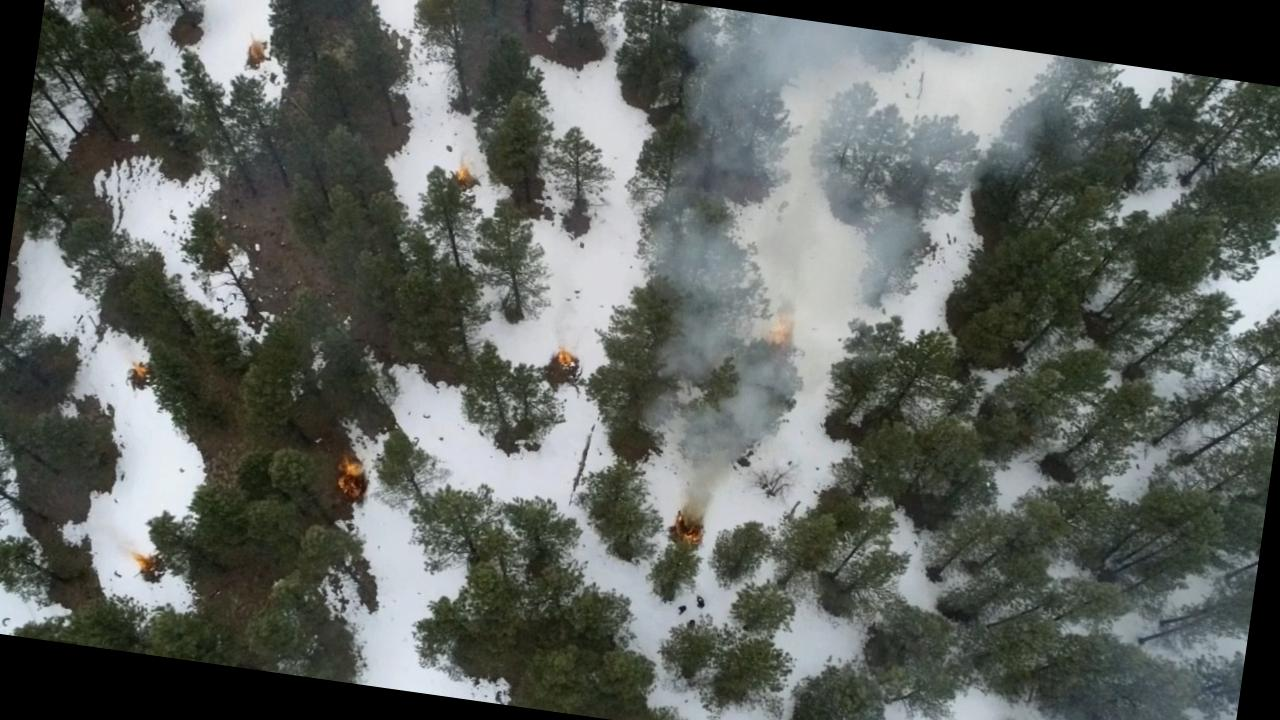fire: (330, 446, 377, 504), (661, 505, 710, 558), (546, 340, 580, 378), (446, 160, 478, 188)
smoke: (650, 3, 1072, 288), (627, 236, 854, 444)
